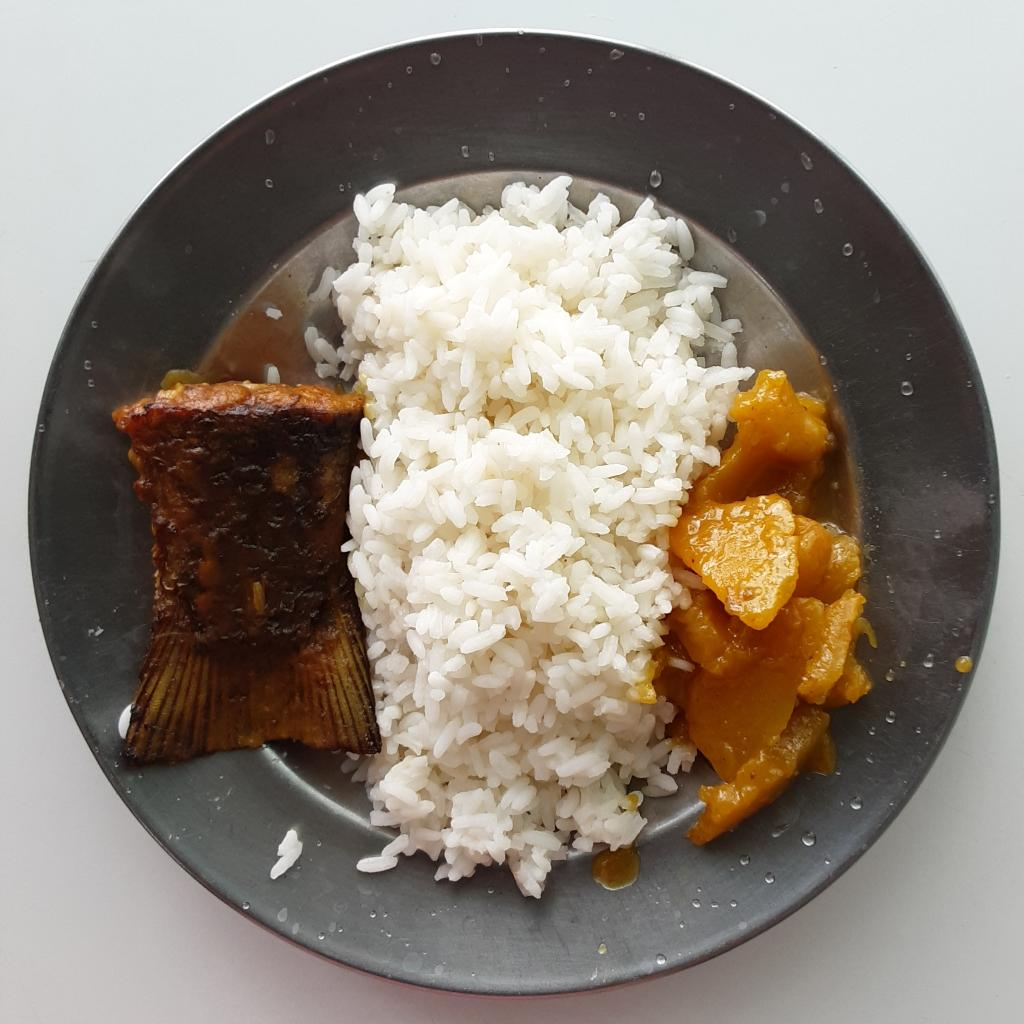fish: (109, 382, 380, 764)
kumra-vaji: (660, 370, 883, 850)
rice: (308, 172, 757, 903)
